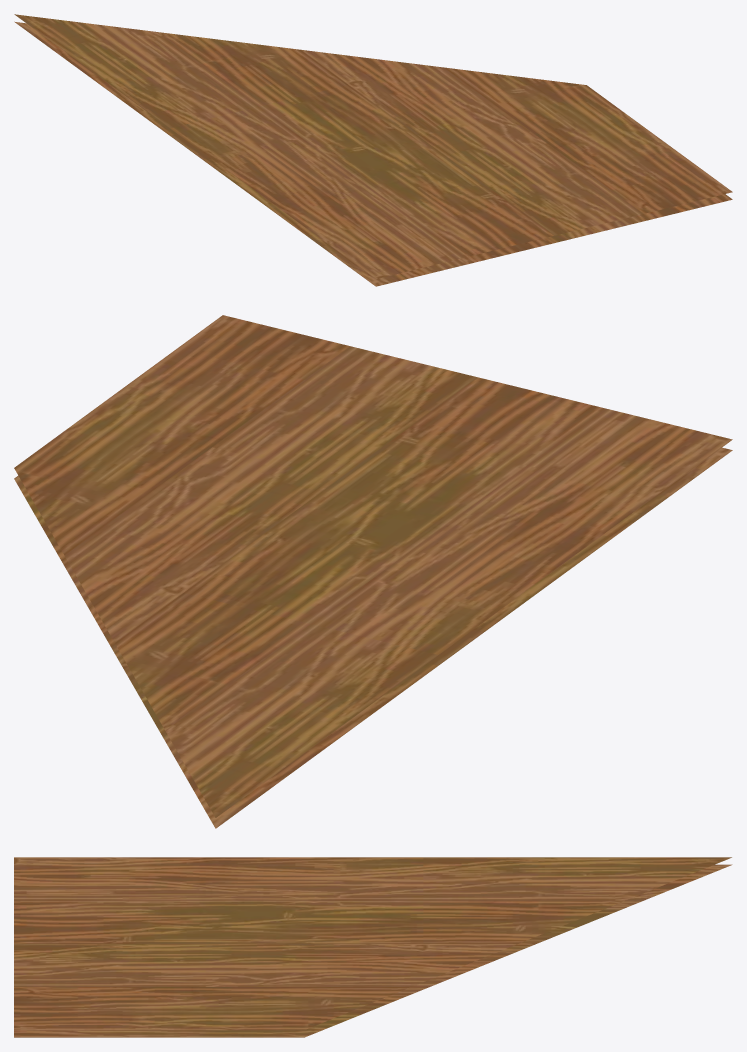
File: floor_woodlight_overhangcorner.glb
3 renders of one model, top to bottom at view 1: azimuth 30°, elevation 25°; view 2: azimuth 150°, elevation 25°; view 3: azimuth 270°, elevation 25°, orthographic. The views are drawn at different scales.
Size of the model in its own units: 1 by 0.02 by 1.76.
Materials: 1 (1 with a texture image).
